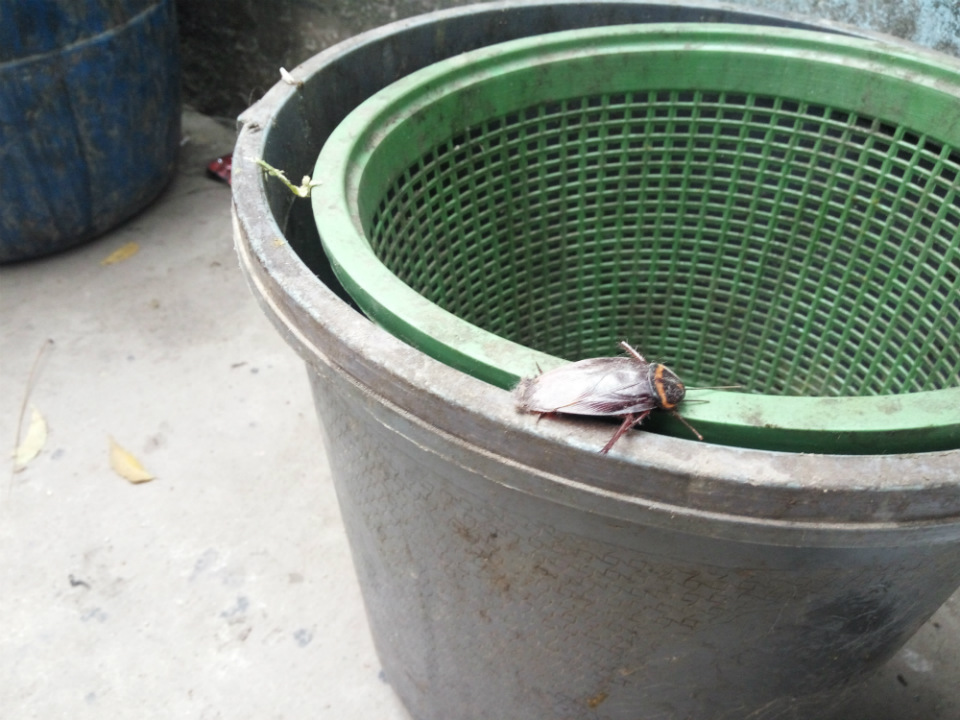cockroach: (470, 347, 734, 449)
